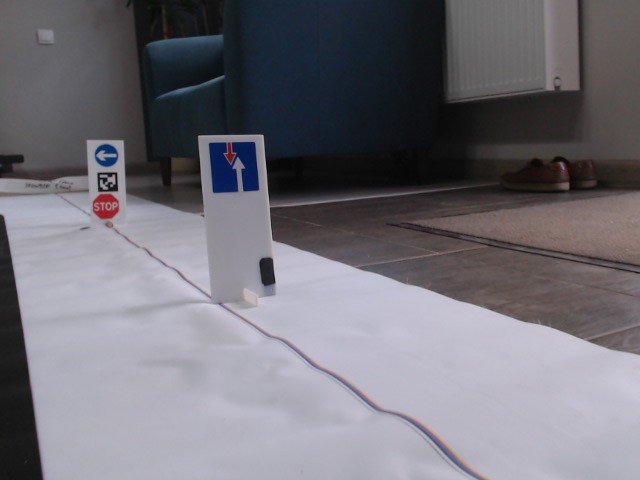Stop: (92, 193, 121, 219)
priority_movement: (207, 140, 261, 194)
